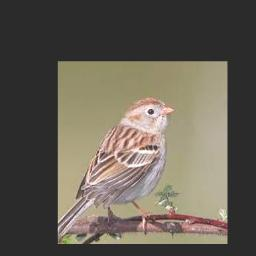Sparrow: (58, 97, 174, 240)
